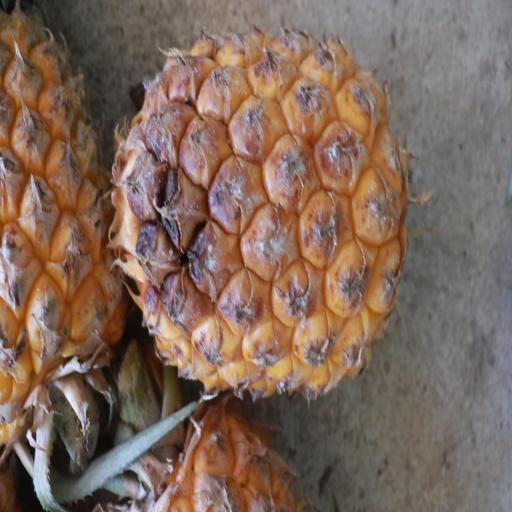Pineapple - v8 v1: (108, 30, 410, 404), (0, 4, 134, 511)
